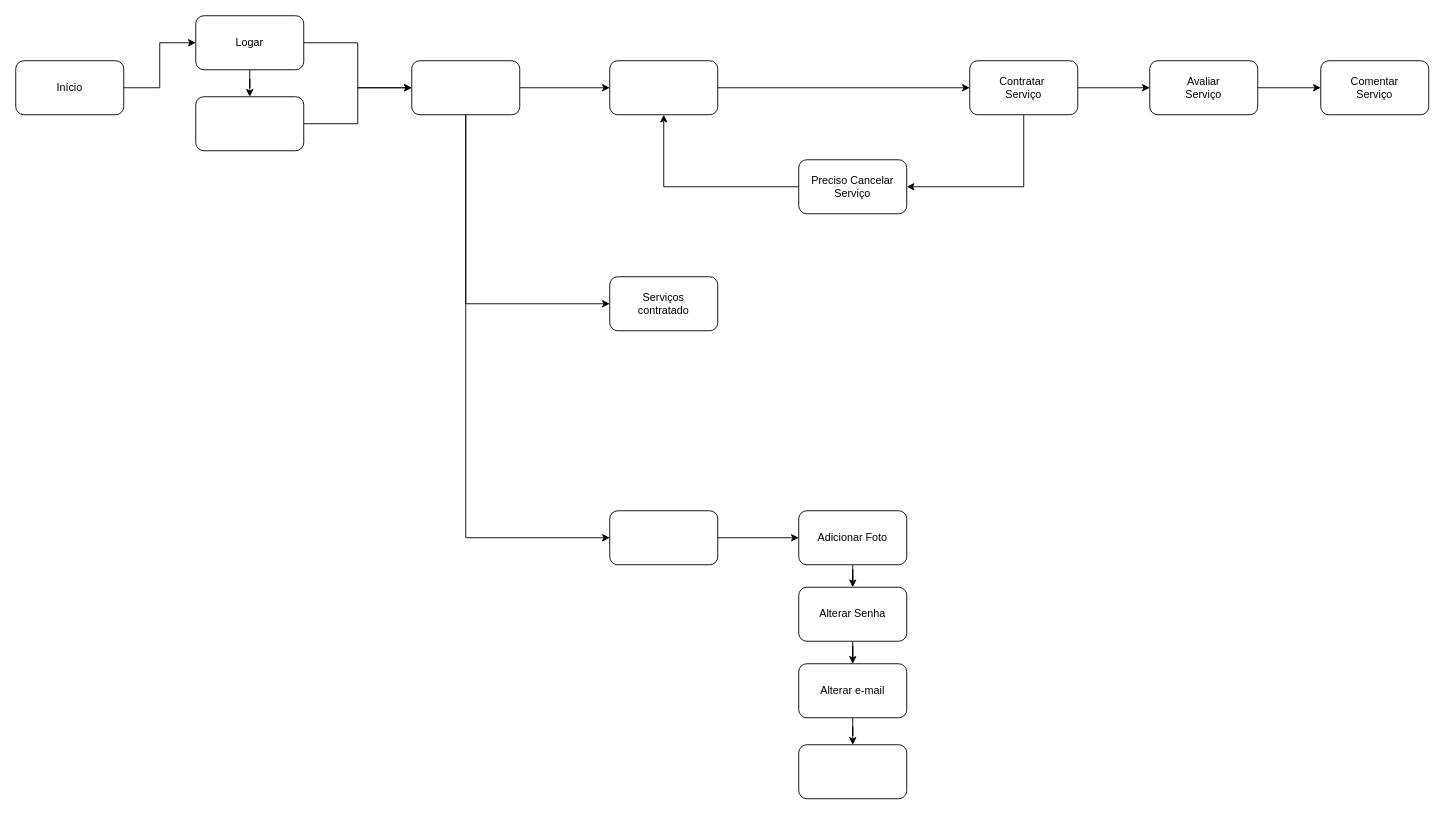
Image size: 1445x815. Some labels were removed from this diagram. The shapes that lost their labels are listed below. From the top down, each one's centre as x and y in pixels, then its label:
At point (465, 87): "Home".
At point (663, 87): "Ver Serviços".
At point (249, 123): "Cadastrar".
At point (663, 537): "Perfil".
At point (852, 771): "Sair".
